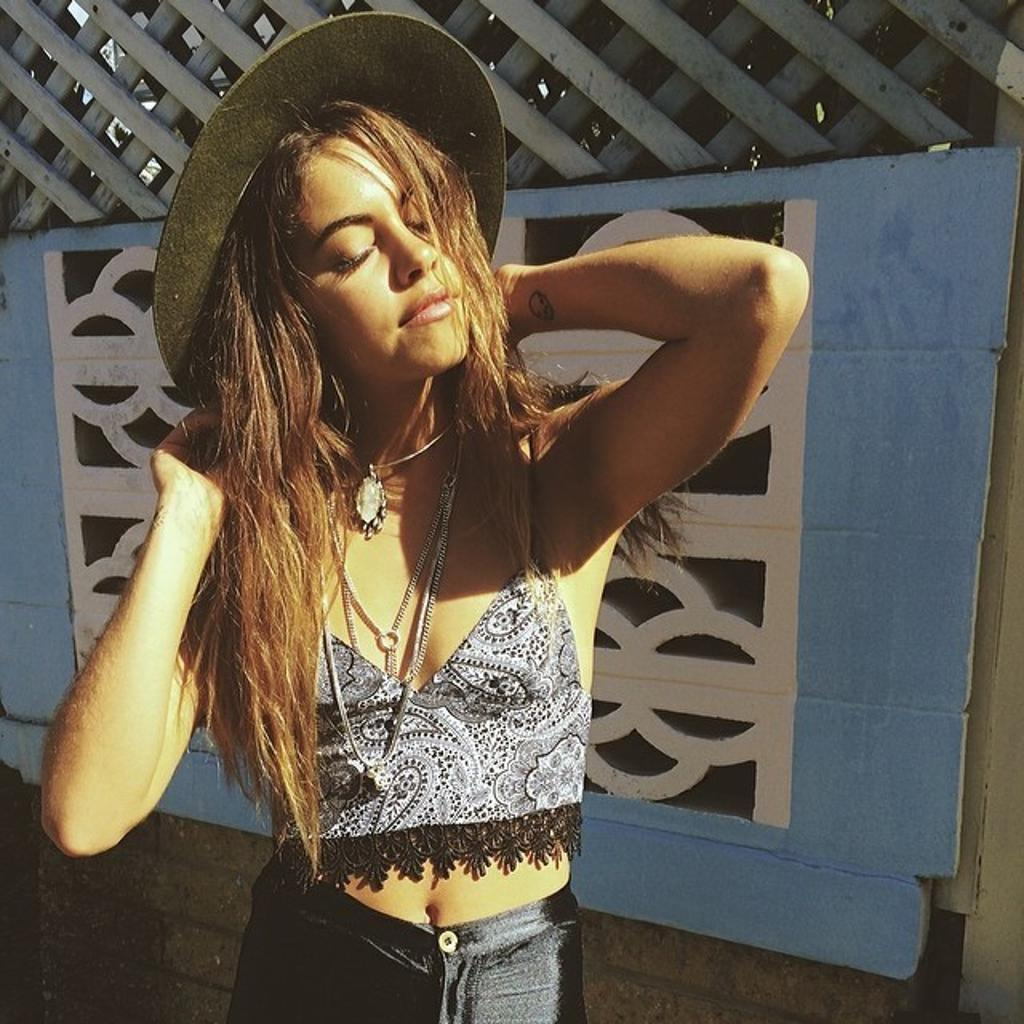face: (272, 126, 476, 366)
